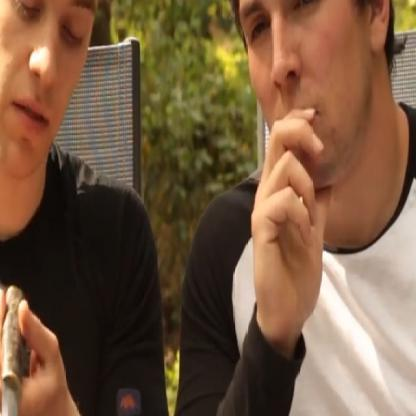knife: (0, 260, 54, 416)
